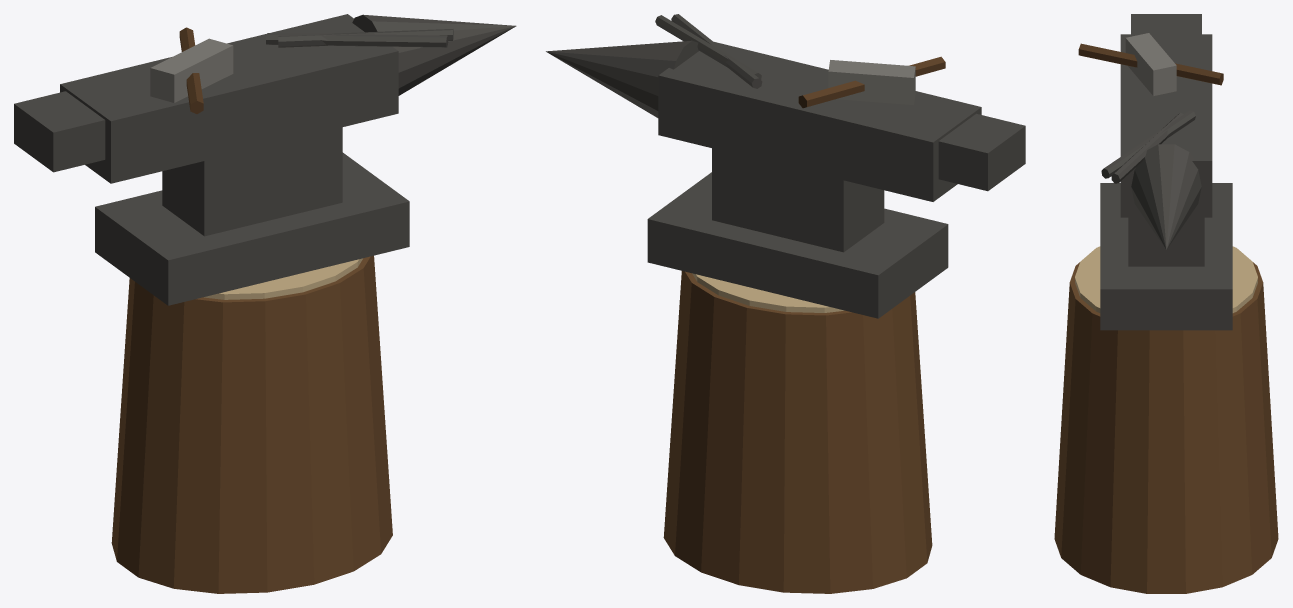
The model's file is anvil-a.glb.
3 renders of one model, left to right at view 1: azimuth 30°, elevation 25°; view 2: azimuth 150°, elevation 25°; view 3: azimuth 270°, elevation 25°, orthographic. The views are drawn at different scales.
Visible parts, largest first — view 1: Body_Wood, Body_Iron, Body_Metal, Body_WoodCut, Body_WoodDark; view 2: Body_Iron, Body_Wood, Body_Metal, Body_WoodCut, Body_WoodDark; view 3: Body_Wood, Body_Iron, Body_WoodCut, Body_Metal, Body_WoodDark.
Part boxes in pixels (box(x1,y1,x2,y2)): Body_Wood: box(111, 255, 392, 593); Body_Iron: box(14, 14, 516, 305); Body_Metal: box(150, 38, 233, 102); Body_WoodCut: box(204, 258, 362, 299); Body_WoodDark: box(179, 27, 203, 113); Body_Iron: box(546, 14, 1025, 318); Body_Wood: box(663, 271, 932, 593); Body_Metal: box(828, 60, 915, 104); Body_WoodCut: box(692, 273, 844, 312); Body_WoodDark: box(798, 56, 945, 108); Body_Wood: box(1054, 262, 1278, 593); Body_Iron: box(1100, 14, 1232, 330); Body_WoodCut: box(1075, 246, 1257, 312); Body_Metal: box(1125, 33, 1176, 95); Body_WoodDark: box(1078, 43, 1223, 85).
Bounding box in the file's own units: 0.9 × 0.9 × 0.4.
